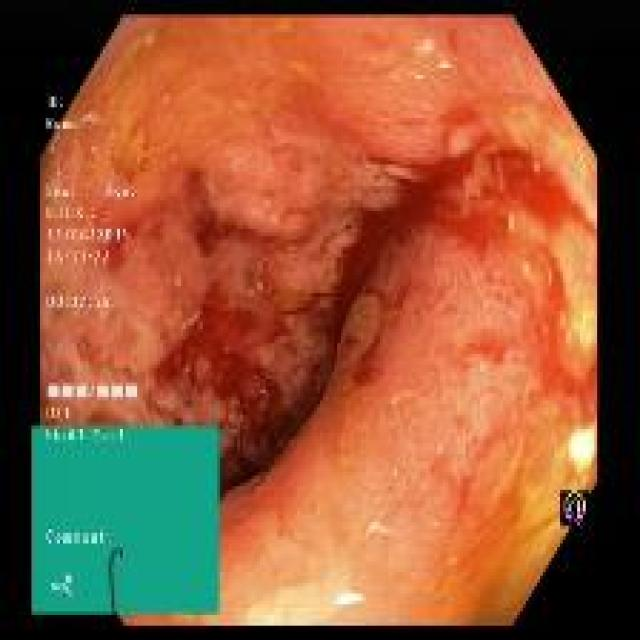ulcerative-colitis: (40, 17, 598, 622)
